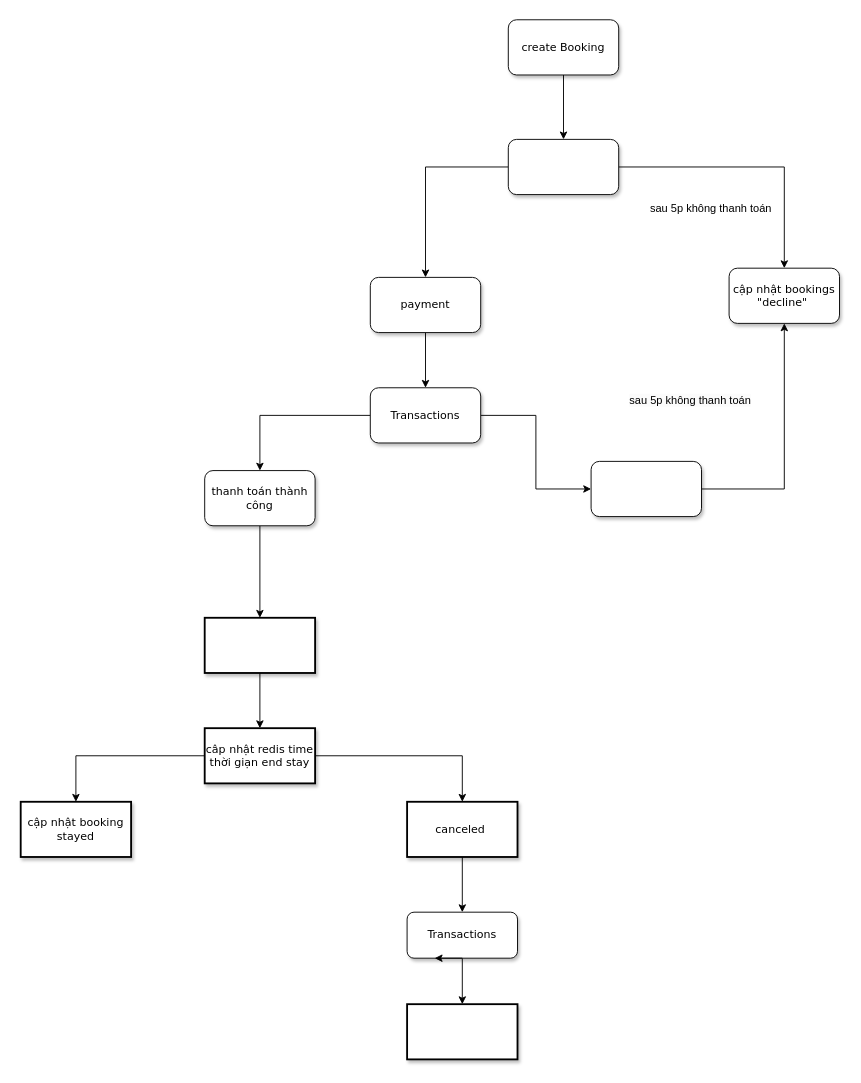
This 861x1083 diagram has some shape labels left out. Each missing label, with the centre of its shape:
"cập nhật booking cancel/ cập nhật tiền, xóa redis" goes at [462,1032].
"cập nhật booking success" goes at [260,646].
"không đủ tiền báo lỗi" goes at [646,490].
"redis 5p key value booking" goes at [564,168].
